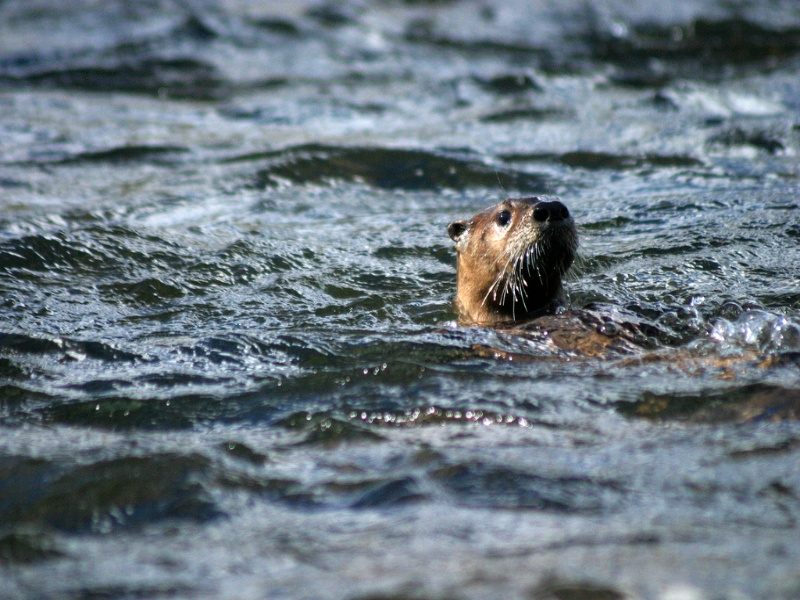minkish: (447, 196, 648, 386)
